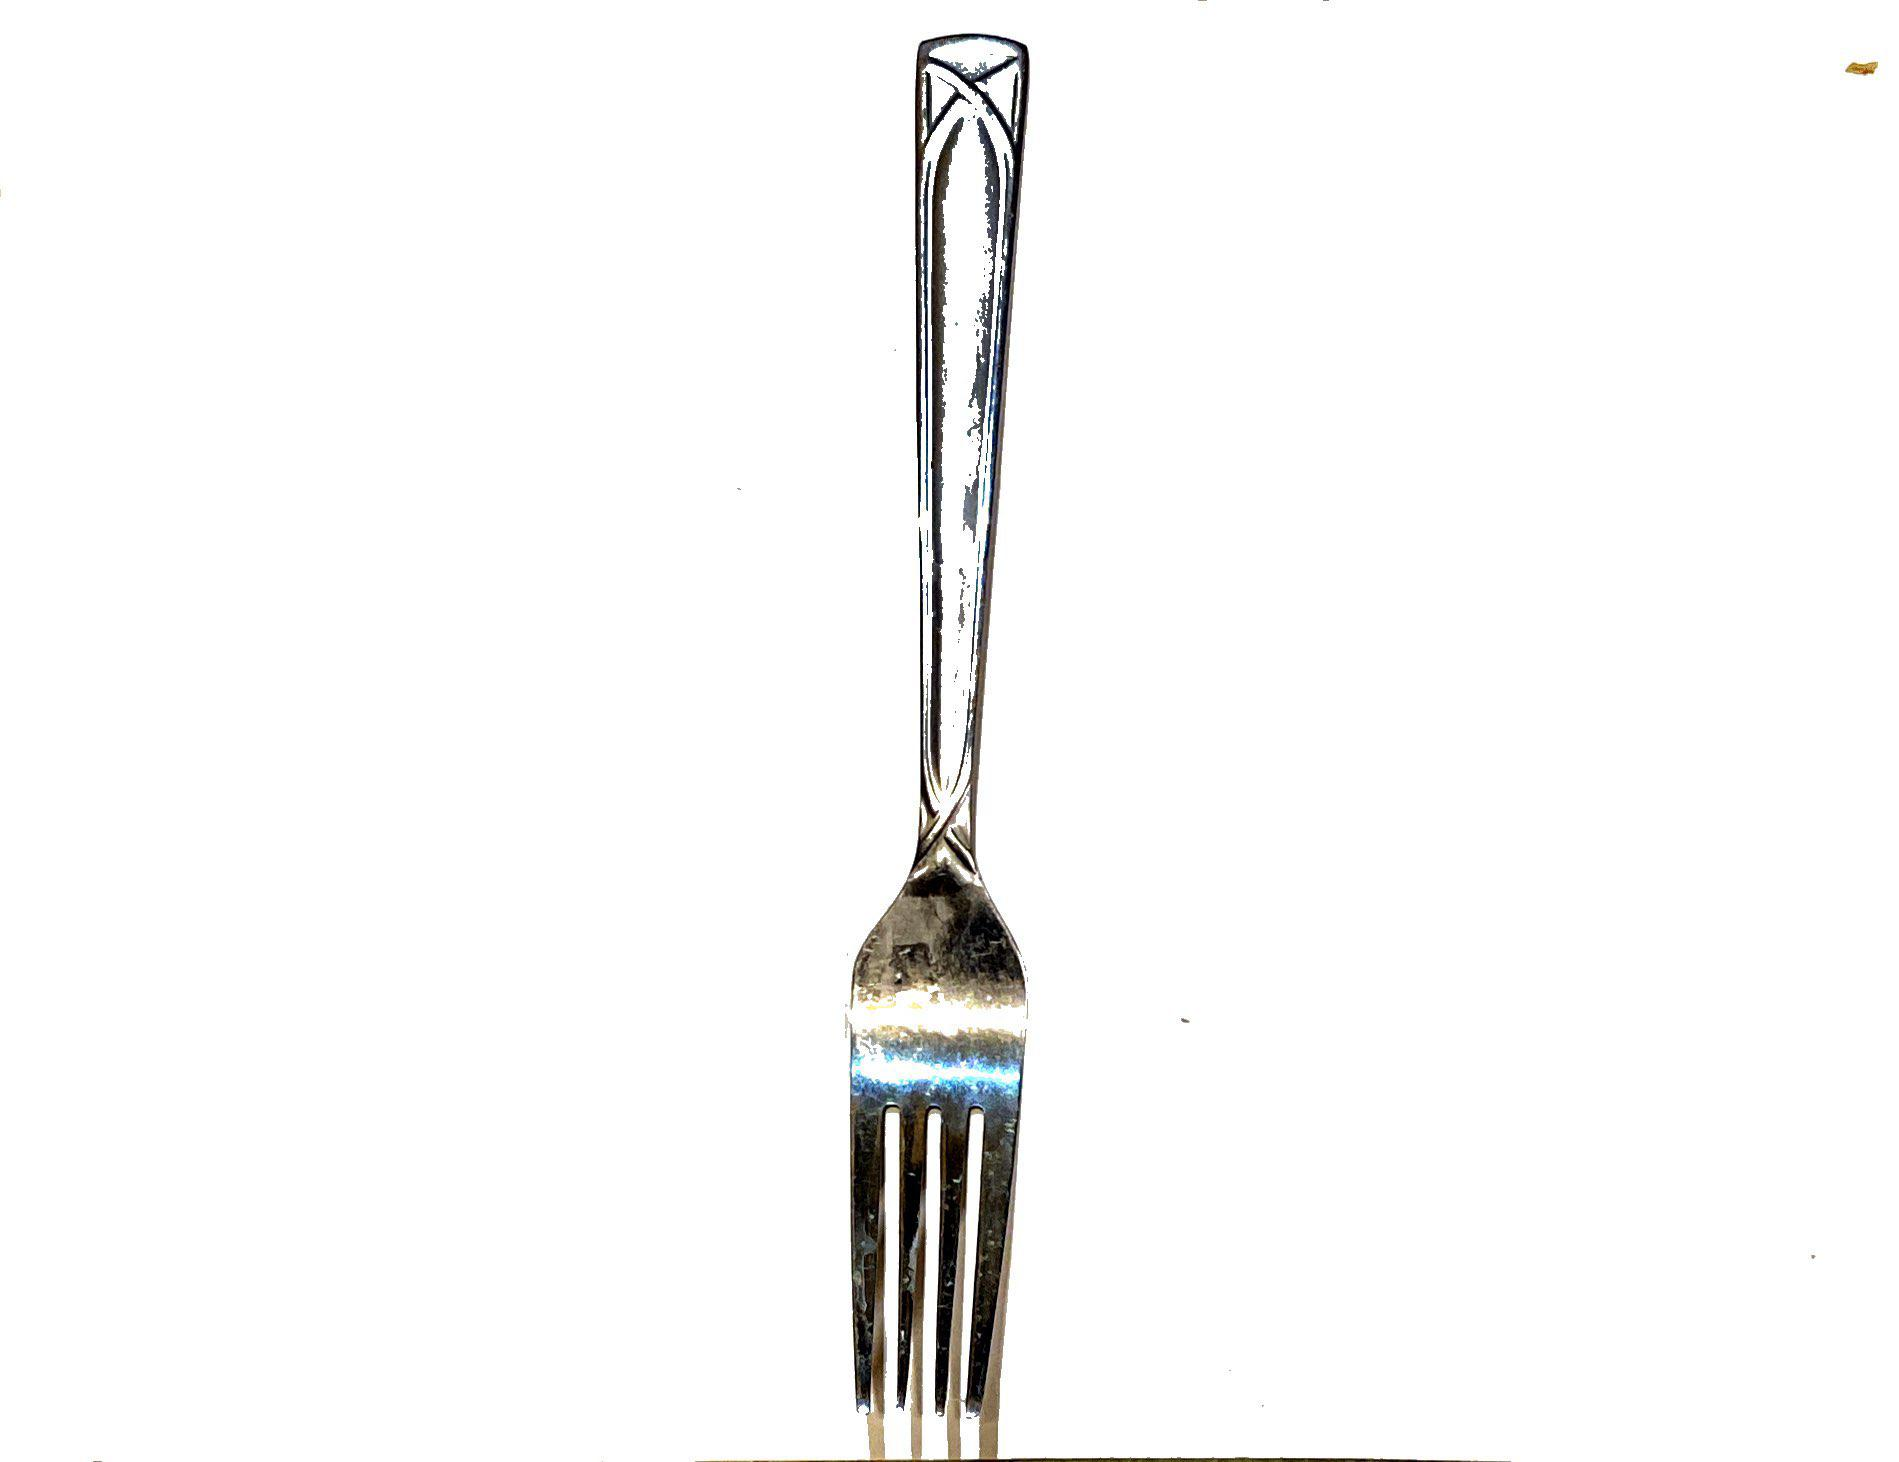Fork: (781, 5, 1210, 1462)
